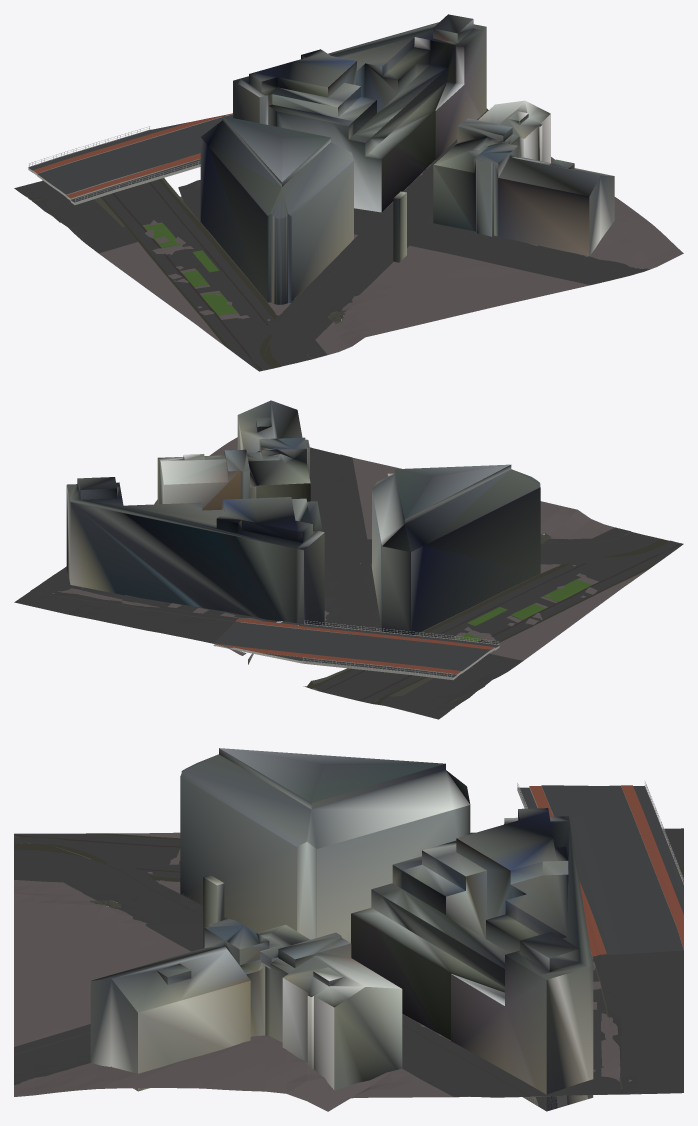
3 views of the same model, one above another, from view 1: azimuth 30°, elevation 25°; view 2: azimuth 150°, elevation 25°; view 3: azimuth 270°, elevation 25° (orthographic). The views are drawn at different scales.
Visible parts, largest first — view 1: c_m13_p04; view 2: c_m13_p04; view 3: c_m13_p04.
Part boxes in pixels (<box>): c_m13_p04: <box>14,14,683,371</box>; c_m13_p04: <box>14,400,683,719</box>; c_m13_p04: <box>14,748,683,1111</box>.
Bounding box in the file's own units: 128 × 33.91 × 128.
